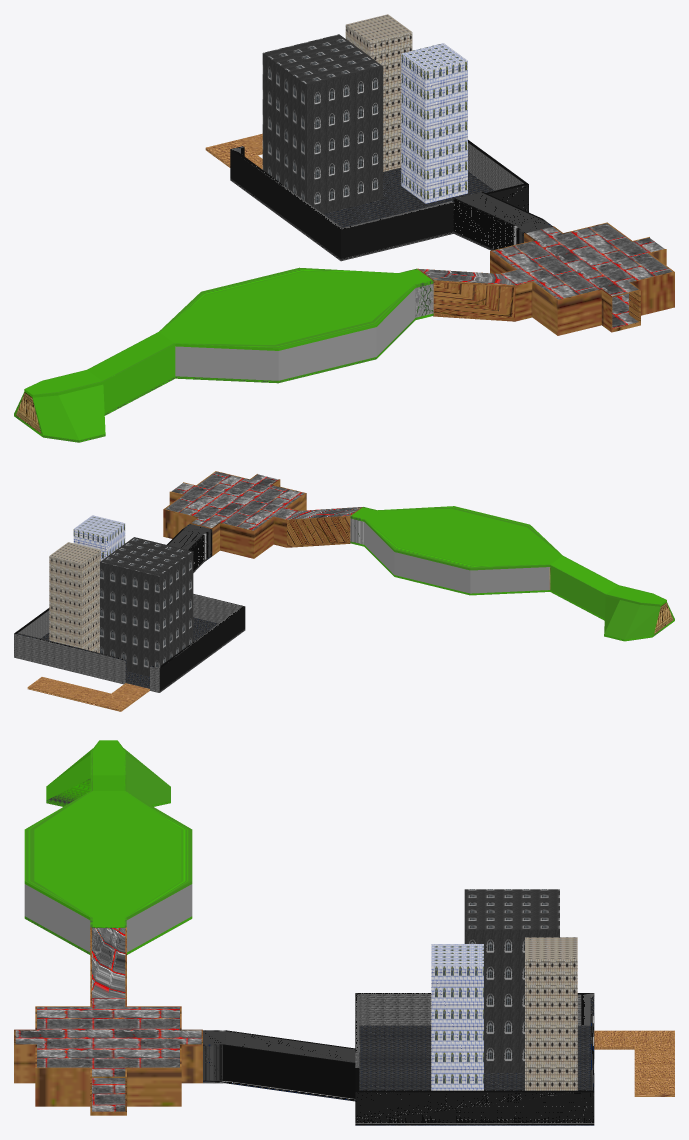
Rendered from room_v3.glb.
3 views of the same model, one above another, from view 1: azimuth 30°, elevation 25°; view 2: azimuth 150°, elevation 25°; view 3: azimuth 270°, elevation 25° (orthographic). The views are drawn at different scales.
Parts seen in each view (by area): view 1: Garden, Room, building2, City, building, building3, secretRoom; view 2: Garden, building2, Room, City, building3, secretRoom, building; view 3: City, Garden, Room, building2, building3, building, secretRoom.
Boxes of the visible parts, x1,y1,x2,y2 form: Garden: (14,267,433,442); Room: (417,222,674,335); building2: (262,34,383,213); City: (230,140,552,261); building: (401,43,467,203); building3: (345,14,412,171); secretRoom: (205,133,262,169); Garden: (350,506,674,641); building2: (100,537,193,676); Room: (163,471,362,558); City: (14,524,245,692); building3: (49,542,100,652); secretRoom: (27,677,149,711); building: (73,515,125,560); City: (203,993,594,1125); Garden: (24,740,192,954); Room: (14,927,202,1115); building2: (464,889,559,1072); building3: (525,937,577,1090); building: (431,944,483,1090); secretRoom: (594,1030,674,1096).
Bounding box in the file's own units: 69.49 × 14.25 × 58.44.
15 materials, 15 textured.
